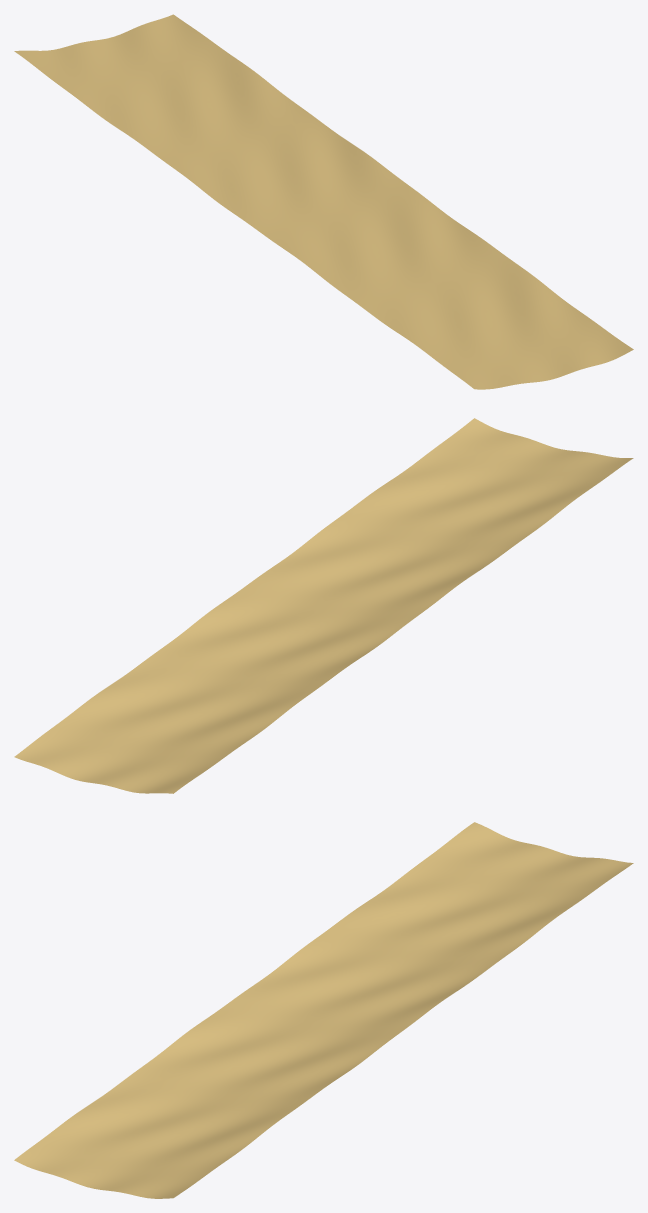
Rendered from sand_floor_02.obj.
The picture shows the model from 3 angles, top to bottom: view 1: azimuth 30°, elevation 25°; view 2: azimuth 150°, elevation 25°; view 3: azimuth 330°, elevation 25°; orthographic projection.
Parts seen in each view (by area): view 1: SandFloor; view 2: SandFloor; view 3: SandFloor.
Part boxes in pixels (x1,y1,x2,y2): SandFloor: (14,14,633,389); SandFloor: (14,418,633,793); SandFloor: (14,822,633,1198).
Size of the model in its own units: 240 by 15.29 by 1200.
Materials: 1 (1 with a texture image).
